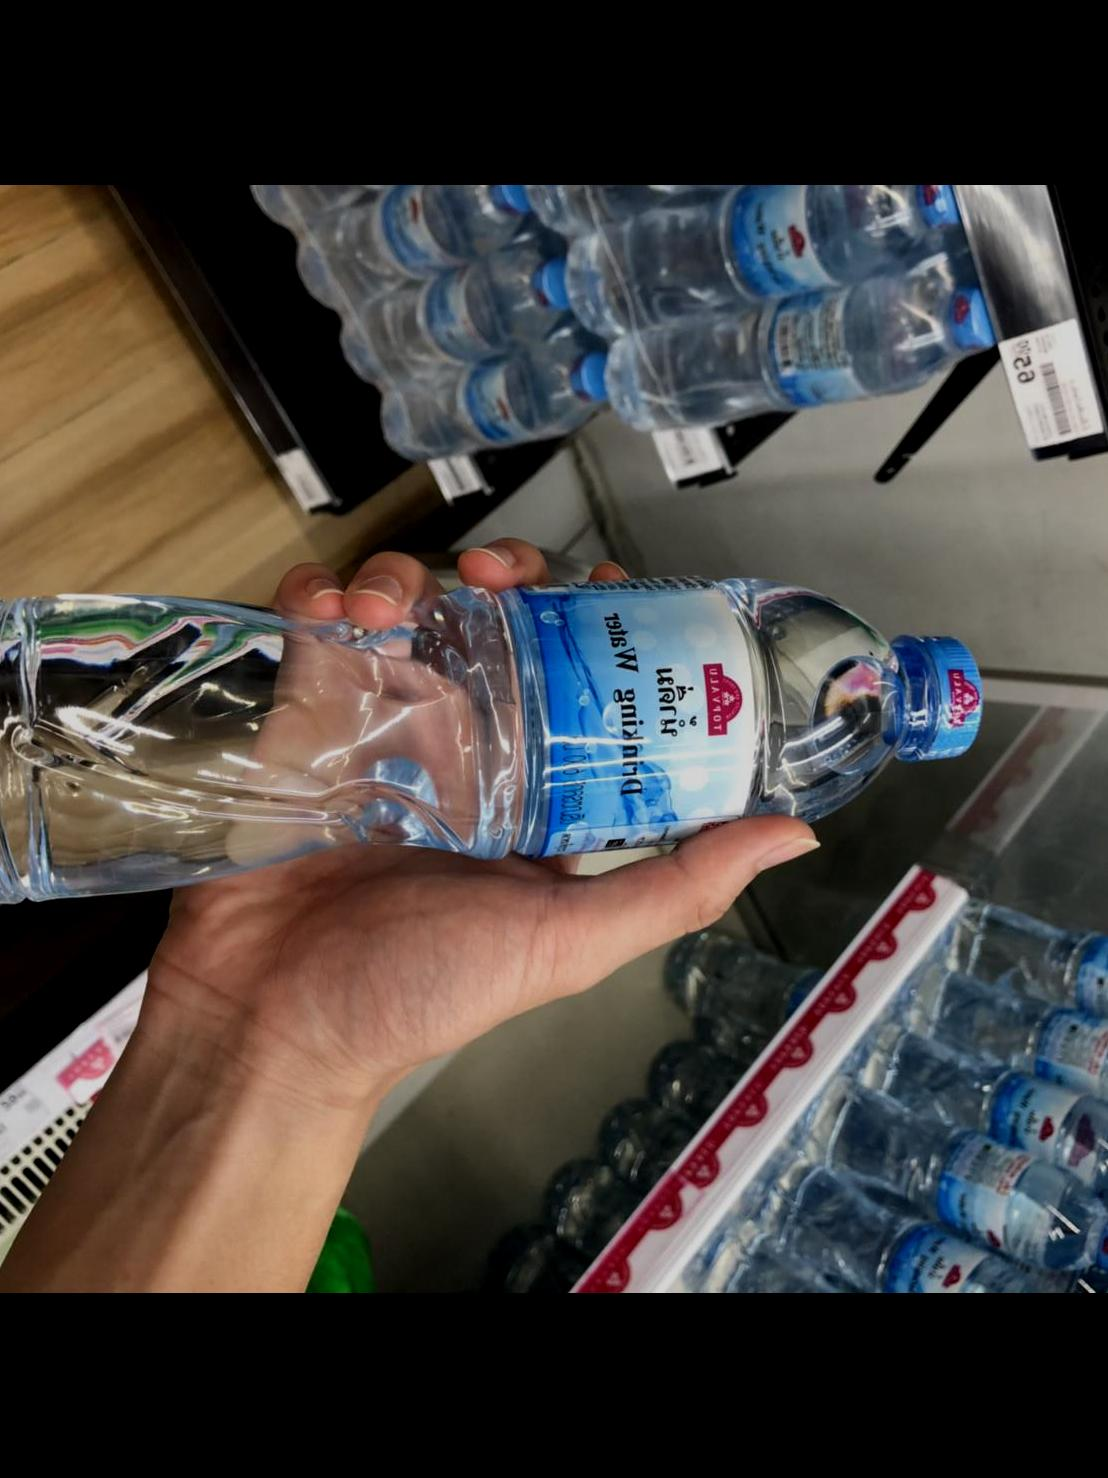bottle: (0, 553, 1015, 918)
